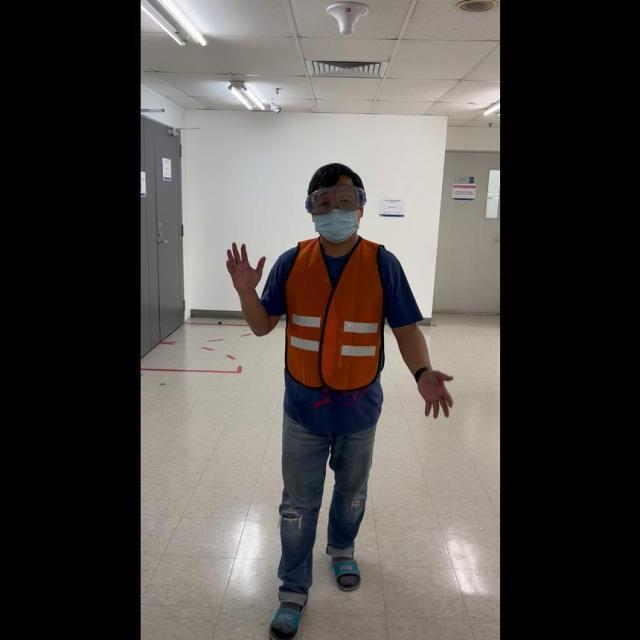bare_hand: (222, 235, 263, 296), (414, 365, 454, 419)
